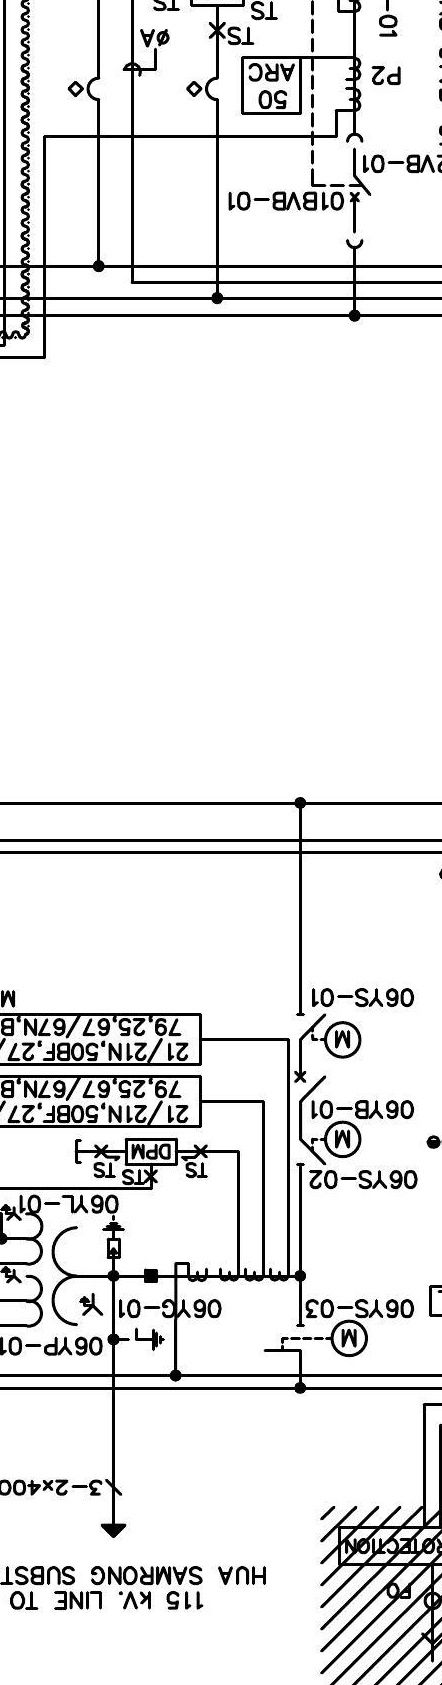115_1way_ds_w_motor: (263, 1318, 370, 1357), (295, 1120, 363, 1167), (295, 1012, 363, 1059)
115_breaker: (293, 1070, 327, 1102)
115_gs: (125, 1327, 166, 1352)
115_la: (101, 1214, 126, 1259)
22_breaker: (345, 132, 372, 250)
DPM: (125, 1138, 178, 1166)
